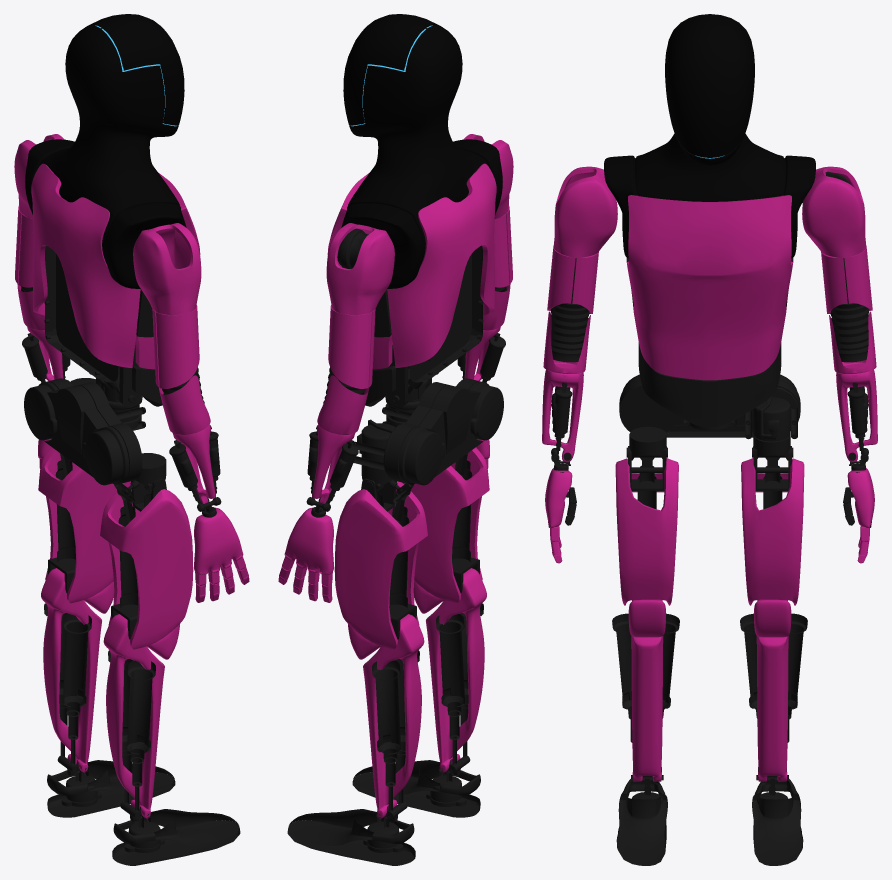
File: audio-engineer.glb
The picture shows the model from 3 angles, left to right: view 1: azimuth 30°, elevation 25°; view 2: azimuth 150°, elevation 25°; view 3: azimuth 270°, elevation 25°; orthographic projection.
Visible parts, largest first — view 1: Cube.001; view 2: Cube.001; view 3: Cube.001.
Boxes of the visible parts, bbox=[...] form: Cube.001: bbox=[14, 14, 249, 865]; Cube.001: bbox=[278, 14, 513, 865]; Cube.001: bbox=[542, 14, 877, 865].
Size of the model in its own units: 0.3406 by 1.7 by 0.6396.
